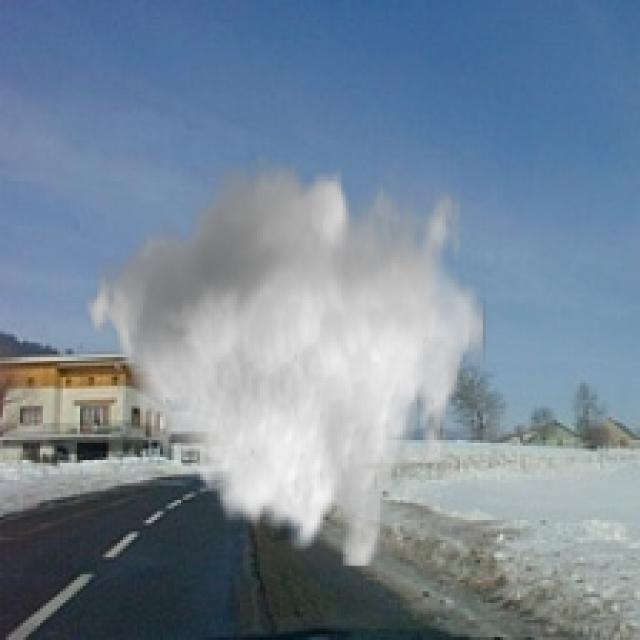Smoke: (77, 154, 486, 569)
